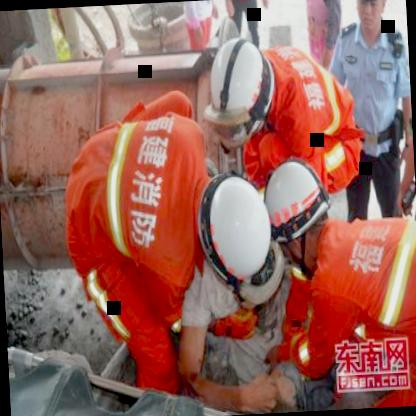head: (350, 0, 394, 36)
helmet: (207, 169, 288, 289), (204, 36, 282, 148), (262, 154, 328, 254)
